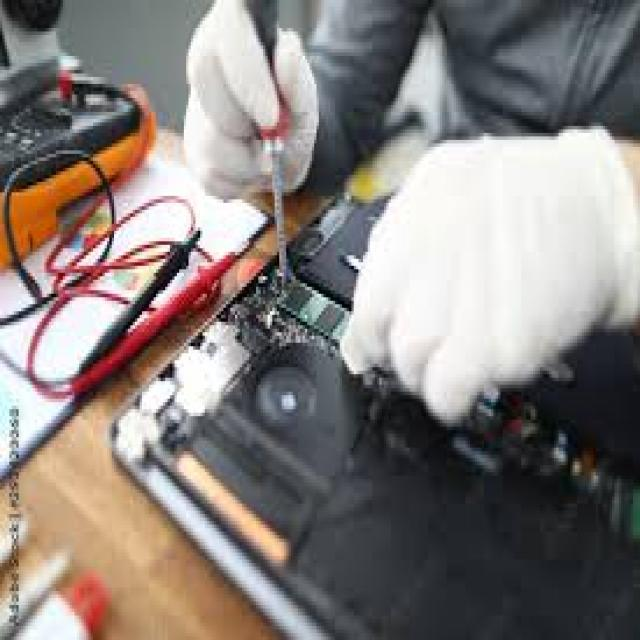screwdriver: (249, 0, 300, 315)
